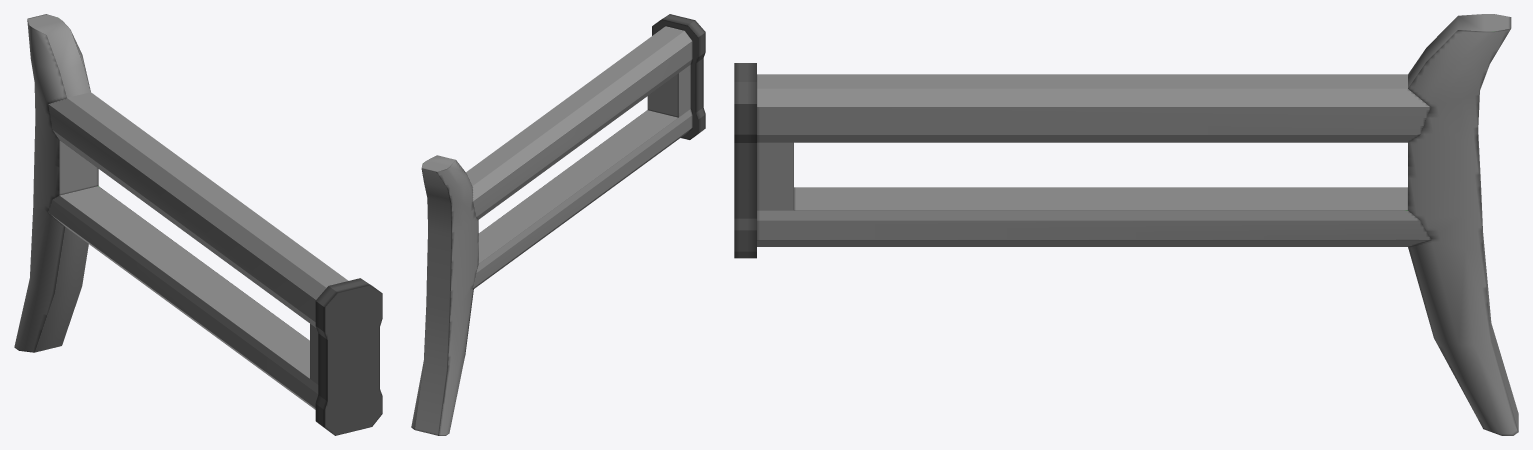
File: Rifle_MT01_Stock.fbx
The picture shows the model from 3 angles, left to right: view 1: azimuth 30°, elevation 25°; view 2: azimuth 150°, elevation 25°; view 3: azimuth 270°, elevation 25°; orthographic projection. The views are drawn at different scales.
Visible parts, largest first — view 1: Cube.004; view 2: Cube.004; view 3: Cube.004.
Part boxes in pixels (x1=…): Cube.004: x1=14, y1=14, x2=382, y2=435; Cube.004: x1=411, y1=14, x2=705, y2=435; Cube.004: x1=734, y1=14, x2=1518, y2=435.
Size of the model in its own units: 11.76 by 63.34 by 113.
